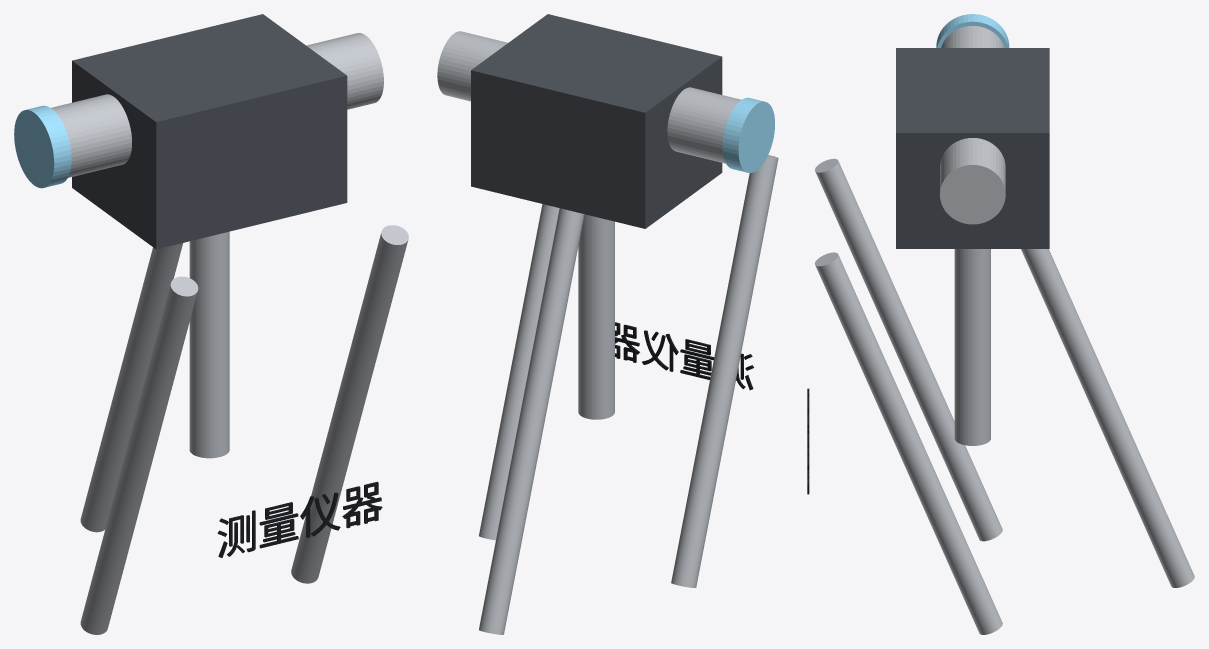
The model's file is asset_survey.glb.
3 renders of one model, left to right at view 1: azimuth 30°, elevation 25°; view 2: azimuth 150°, elevation 25°; view 3: azimuth 270°, elevation 25°, orthographic. The views are drawn at different scales.
Parts seen in each view (by area): view 1: instrument_body, tripod_leg.001, tripod_leg.002, tripod_center, tripod_leg, telescope, asset_label, lens_front; view 2: instrument_body, tripod_leg.001, tripod_leg, tripod_center, telescope, tripod_leg.002, lens_front, asset_label; view 3: instrument_body, tripod_leg.002, tripod_leg.001, tripod_leg, tripod_center, telescope, lens_front.
Boxes of the visible parts, bbox=[...] form: instrument_body: bbox=[72, 14, 347, 249]; tripod_leg.001: bbox=[80, 276, 198, 634]; tripod_leg.002: bbox=[291, 225, 408, 583]; tripod_center: bbox=[189, 231, 229, 458]; tripod_leg: bbox=[80, 243, 182, 532]; telescope: bbox=[51, 33, 383, 177]; asset_label: bbox=[217, 481, 382, 557]; lens_front: bbox=[14, 105, 71, 188]; instrument_body: bbox=[471, 14, 722, 228]; tripod_leg.001: bbox=[671, 155, 778, 587]; tripod_leg: bbox=[479, 208, 584, 634]; tripod_center: bbox=[578, 214, 614, 419]; telescope: bbox=[437, 31, 741, 163]; tripod_leg.002: bbox=[479, 204, 559, 540]; lens_front: bbox=[722, 97, 774, 172]; asset_label: bbox=[615, 322, 753, 390]; instrument_body: bbox=[896, 48, 1049, 248]; tripod_leg.002: bbox=[814, 252, 1002, 634]; tripod_leg.001: bbox=[815, 158, 1002, 541]; tripod_leg: bbox=[1021, 249, 1194, 587]; tripod_center: bbox=[954, 249, 990, 445]; telescope: bbox=[940, 25, 1005, 224]; lens_front: bbox=[936, 14, 1009, 47].
Bounding box in the file's own units: 0.955 × 1.49 × 1.06.
